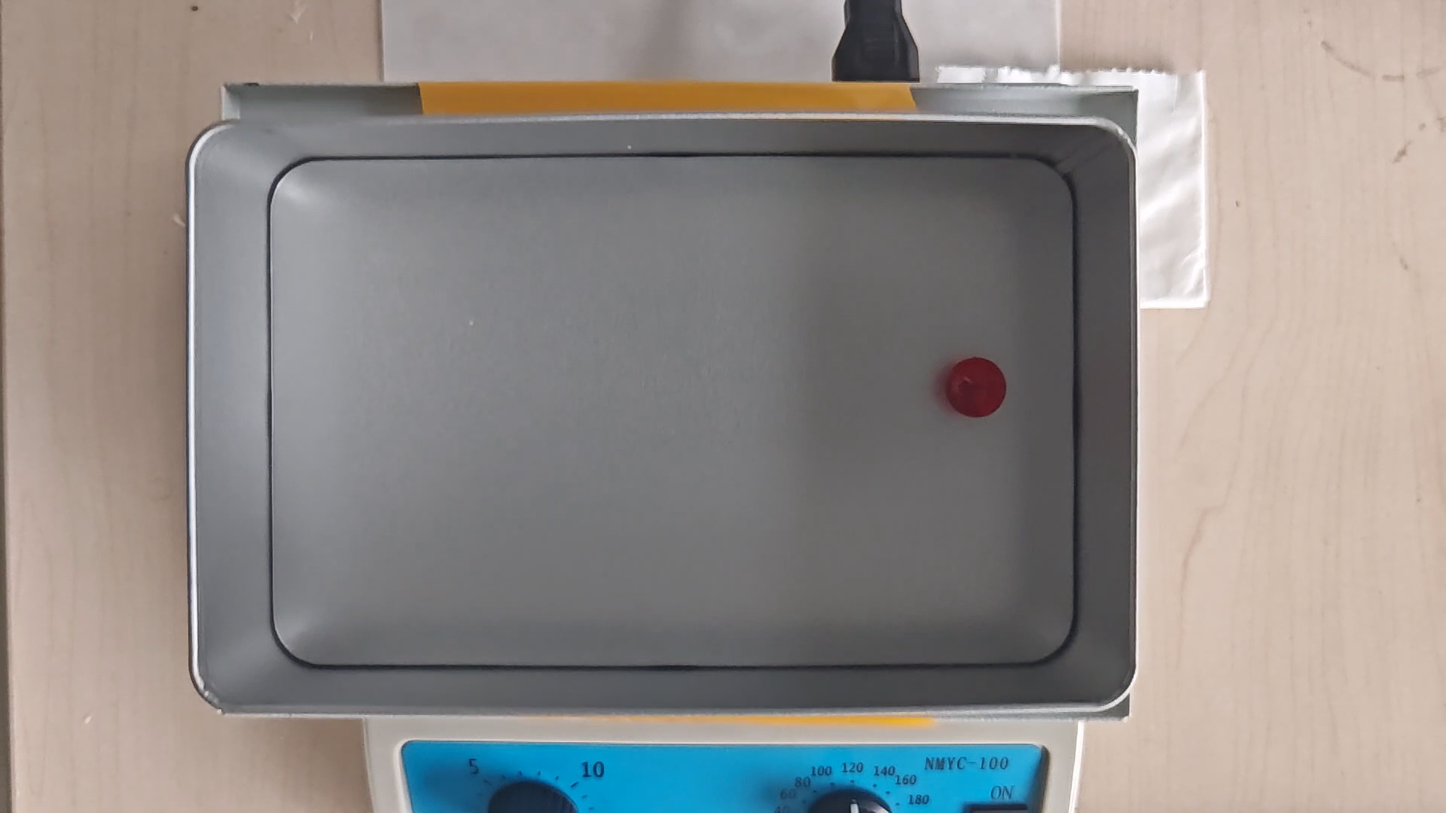ball: (947, 355, 1009, 421)
container: (268, 157, 1075, 666)
